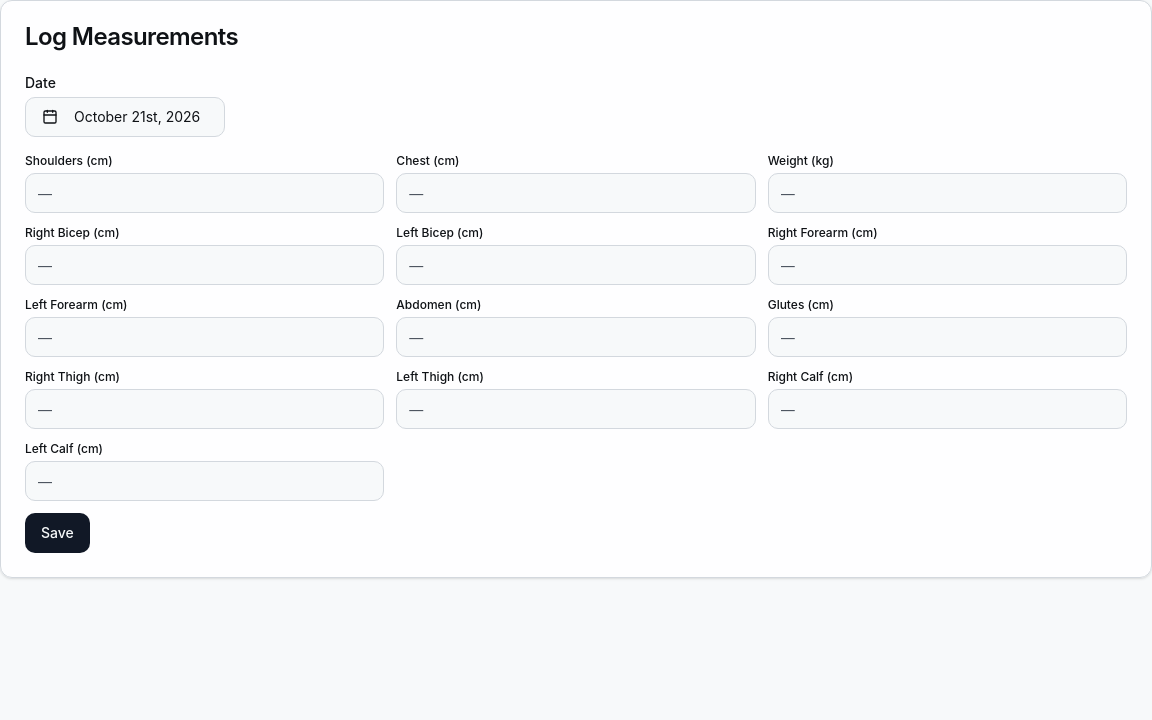
Test: LogTab › shows error message when save fails
Click the button "Save": (57, 533) [25, 513, 90, 553]
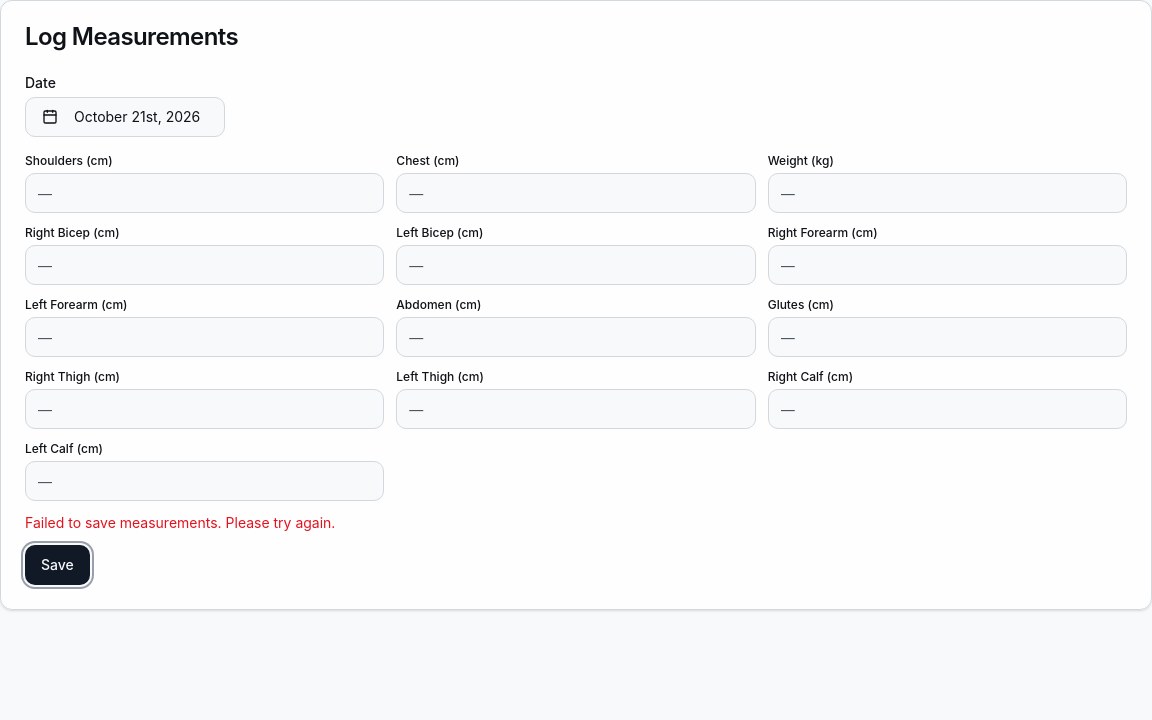
Expected: the text "Failed to save measurements. Please try again." is shown, [25, 514, 335, 531]
